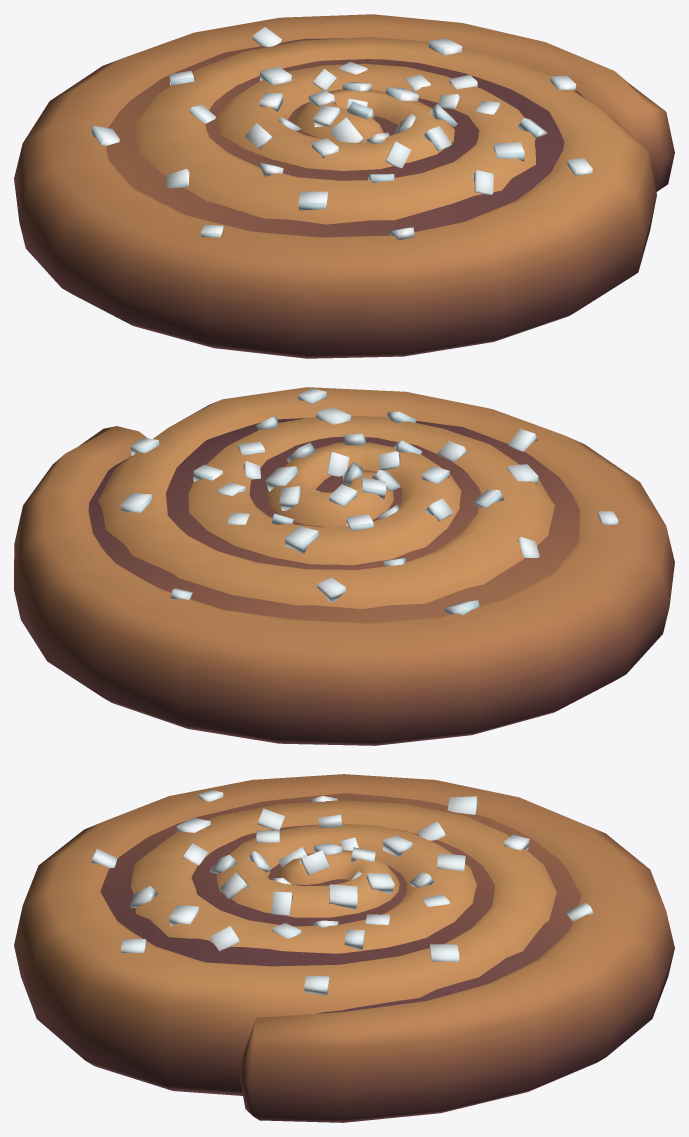
File: SM_Cinnabun.fbx
3 views of the same model, one above another, from view 1: azimuth 30°, elevation 25°; view 2: azimuth 150°, elevation 25°; view 3: azimuth 270°, elevation 25° (orthographic).
Visible parts, largest first — view 1: SM_Cinnabun; view 2: SM_Cinnabun; view 3: SM_Cinnabun.
Boxes of the visible parts, x1,y1,x2,y2 form: SM_Cinnabun: (14,14,674,358); SM_Cinnabun: (14,387,674,745); SM_Cinnabun: (14,774,674,1122).
Bounding box in the file's own units: 151 × 33.71 × 148.
